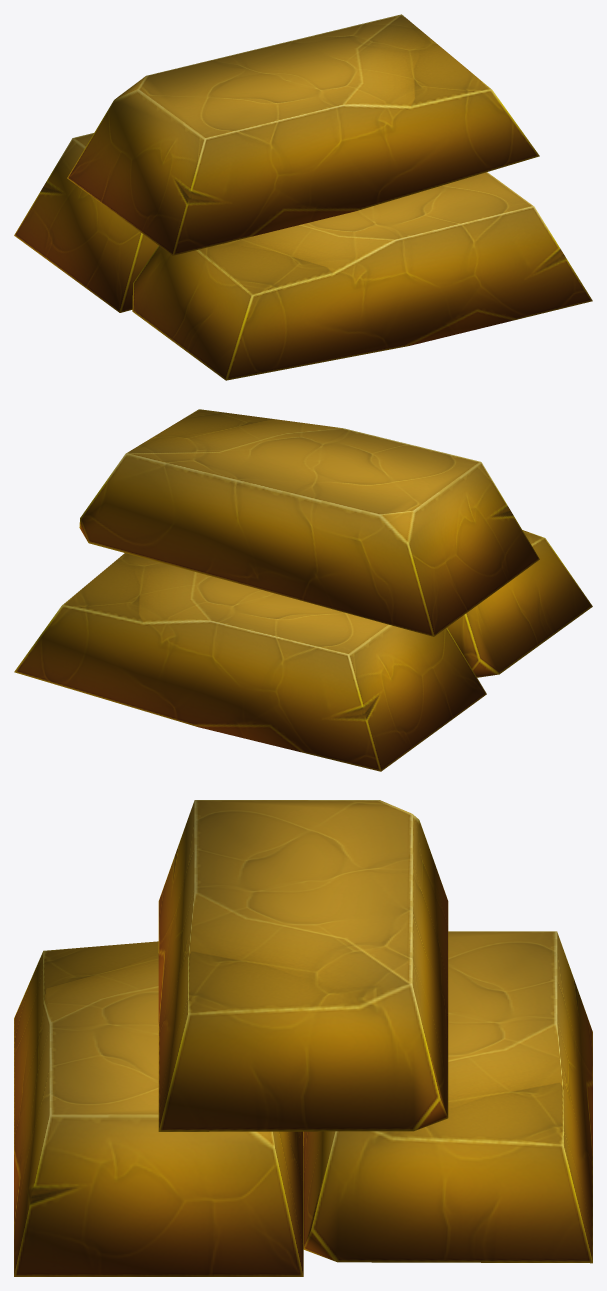
Rendered from Gold-05.fbx.
3 views of the same model, one above another, from view 1: azimuth 30°, elevation 25°; view 2: azimuth 150°, elevation 25°; view 3: azimuth 270°, elevation 25° (orthographic). The views are drawn at different scales.
Visible parts, largest first — view 1: Gold-05; view 2: Gold-05; view 3: Gold-05.
Boxes of the visible parts, box(x1,y1,x2,y2) form: Gold-05: box(14, 14, 592, 380); Gold-05: box(14, 409, 592, 771); Gold-05: box(14, 800, 592, 1276).
Size of the model in its own units: 0.15 by 0.075 by 0.15.
Materials: 1 (1 with a texture image).
